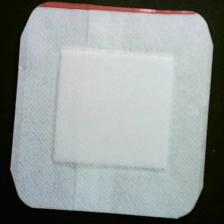Dressing: (7, 3, 217, 222)
Red_T: (34, 1, 202, 24)
